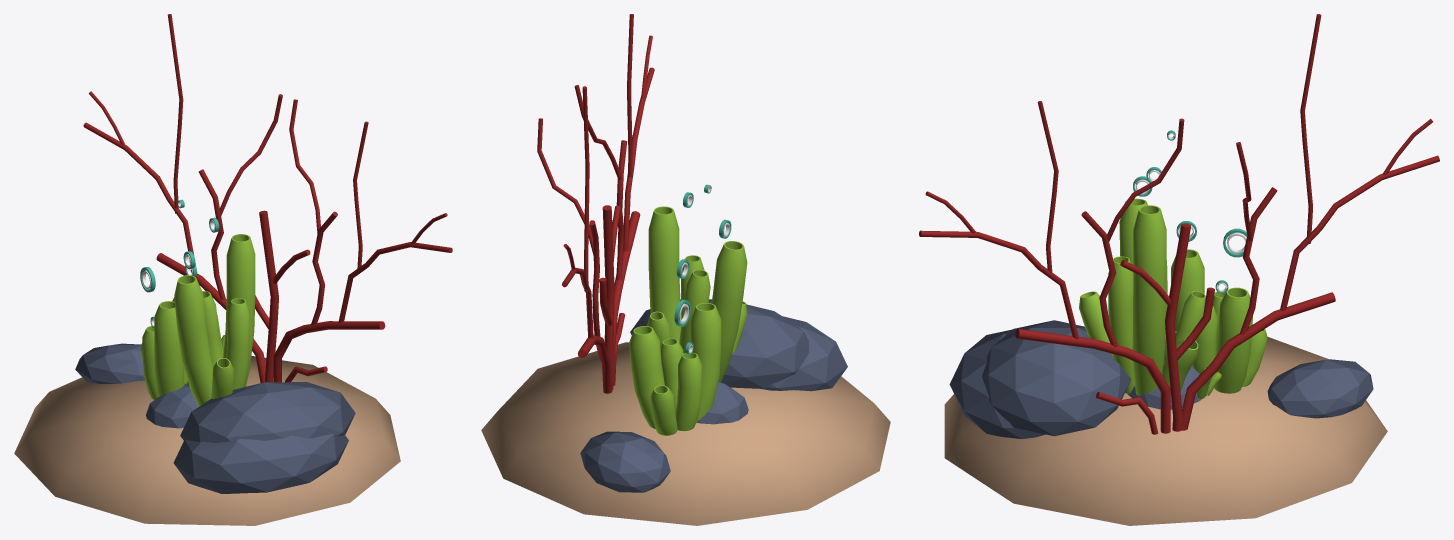
Rendered from coral04.glb.
The picture shows the model from 3 angles, left to right: view 1: azimuth 30°, elevation 25°; view 2: azimuth 150°, elevation 25°; view 3: azimuth 270°, elevation 25°; orthographic projection. The views are drawn at different scales.
Visible parts, largest first — view 1: Sphere001, GeoSphere001, GeoSphere002, Tube010, Tube012, GeoSphere004, Tube001, Tube007, Line006, GeoSphere003, Line003, Line015 (+11 smaller); view 2: Sphere001, GeoSphere001, GeoSphere004, Tube012, Tube010, GeoSphere002, Tube001, Tube006, Tube002, Line006, GeoSphere003, Tube009 (+13 smaller); view 3: Sphere001, GeoSphere001, Tube012, GeoSphere004, GeoSphere002, Tube006, Tube007, Line003, Line001, Line006, Line015, Line019 (+15 smaller).
Part boxes in pixels (x1=…): Sphere001: x1=14, y1=356, x2=400, y2=525; GeoSphere001: x1=180, y1=382, x2=355, y2=442; GeoSphere002: x1=173, y1=433, x2=348, y2=493; Tube010: x1=174, y1=275, x2=213, y2=406; Tube012: x1=223, y1=234, x2=255, y2=386; GeoSphere004: x1=75, y1=343, x2=144, y2=383; Tube001: x1=154, y1=301, x2=184, y2=397; Tube007: x1=226, y1=298, x2=249, y2=389; Line006: x1=259, y1=210, x2=278, y2=382; GeoSphere003: x1=146, y1=383, x2=198, y2=428; Line003: x1=273, y1=321, x2=385, y2=382; Line015: x1=83, y1=122, x2=195, y2=271; Sphere001: x1=481, y1=342, x2=890, y2=525; GeoSphere001: x1=630, y1=299, x2=809, y2=388; GeoSphere004: x1=580, y1=431, x2=670, y2=492; Tube012: x1=648, y1=206, x2=681, y2=342; Tube010: x1=711, y1=241, x2=747, y2=382; GeoSphere002: x1=762, y1=316, x2=847, y2=391; Tube001: x1=690, y1=303, x2=721, y2=421; Tube006: x1=629, y1=326, x2=664, y2=428; Tube002: x1=675, y1=352, x2=701, y2=431; Line006: x1=602, y1=205, x2=614, y2=389; GeoSphere003: x1=696, y1=381, x2=748, y2=424; Tube009: x1=679, y1=269, x2=710, y2=353; Sphere001: x1=944, y1=337, x2=1387, y2=525; GeoSphere001: x1=982, y1=320, x2=1131, y2=436; Tube012: x1=1132, y1=205, x2=1166, y2=395; GeoSphere004: x1=1267, y1=359, x2=1373, y2=418; GeoSphere002: x1=949, y1=329, x2=1045, y2=438; Tube006: x1=1214, y1=287, x2=1252, y2=393; Tube007: x1=1108, y1=256, x2=1134, y2=393; Line003: x1=1015, y1=328, x2=1170, y2=433; Line001: x1=1181, y1=292, x2=1335, y2=430; Line006: x1=1165, y1=223, x2=1190, y2=431; Line015: x1=1280, y1=155, x2=1439, y2=310; Line019: x1=919, y1=230, x2=1078, y2=339.
Size of the model in its own units: 89.58 by 95.94 by 104.
